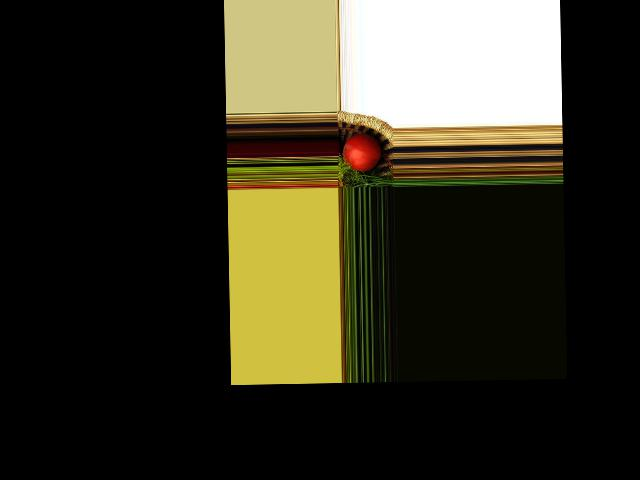tomato: (342, 133, 381, 173)
